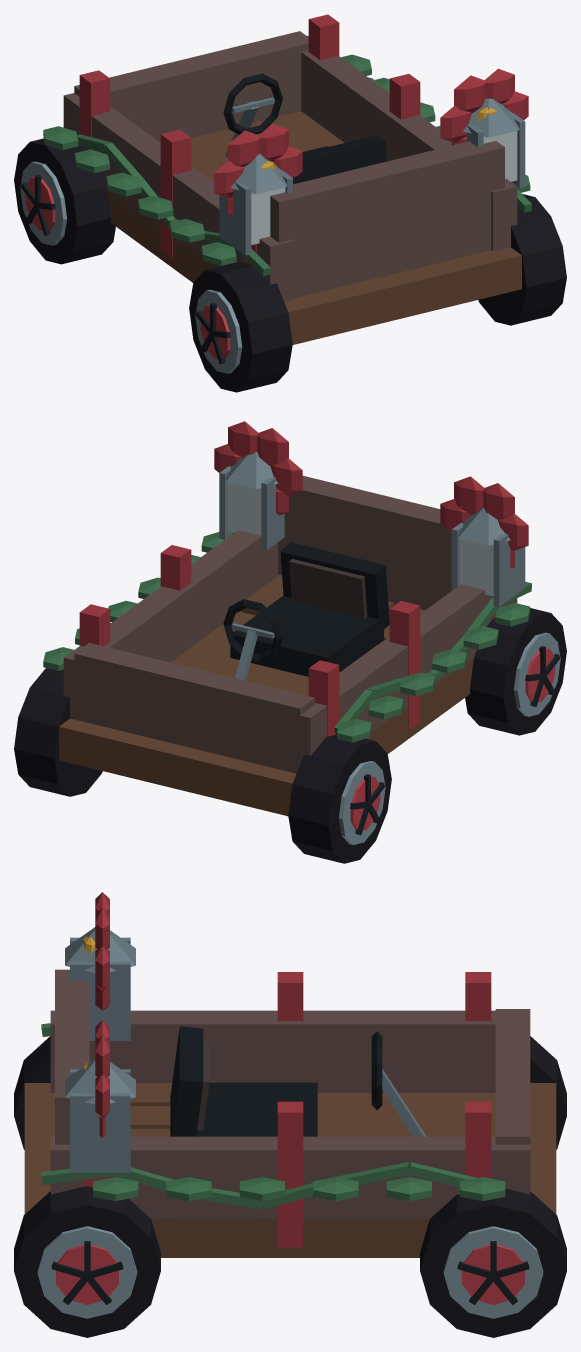
The model's file is kart.glb.
The picture shows the model from 3 angles, top to bottom: view 1: azimuth 30°, elevation 25°; view 2: azimuth 150°, elevation 25°; view 3: azimuth 270°, elevation 25°; orthographic projection. The views are drawn at different scales.
Parts seen in each view (by area): view 1: identity-wagon-wagon-timber-coach, wheel-rear-left, wheel-front-left, identity-wagon-motif-lanterns, identity-wagon-motif-vines, identity-wagon-motif-flowers, wheel-rear-right, identity-wagon-driver-cockpit; view 2: identity-wagon-wagon-timber-coach, identity-wagon-driver-cockpit, wheel-front-left, identity-wagon-motif-lanterns, wheel-rear-left, identity-wagon-motif-vines, identity-wagon-motif-flowers, wheel-front-right; view 3: identity-wagon-wagon-timber-coach, wheel-rear-right, wheel-front-right, identity-wagon-driver-cockpit, identity-wagon-motif-lanterns, identity-wagon-motif-vines, identity-wagon-motif-flowers, wheel-front-left, wheel-rear-left.
Part boxes in pixels (x1,y1,x2,y2): identity-wagon-wagon-timber-coach: [63, 14, 521, 344]; wheel-rear-left: [189, 261, 292, 392]; wheel-front-left: [14, 138, 115, 264]; identity-wagon-motif-lanterns: [219, 98, 525, 255]; identity-wagon-motif-vines: [43, 54, 531, 276]; identity-wagon-motif-flowers: [214, 68, 528, 215]; wheel-rear-right: [478, 194, 566, 325]; identity-wagon-driver-cockpit: [223, 73, 386, 184]; identity-wagon-wagon-timber-coach: [59, 475, 517, 816]; identity-wagon-driver-cockpit: [223, 542, 389, 680]; wheel-front-left: [288, 734, 391, 863]; identity-wagon-motif-lanterns: [219, 452, 525, 606]; wheel-rear-left: [465, 608, 566, 735]; identity-wagon-motif-vines: [43, 532, 531, 742]; identity-wagon-motif-flowers: [214, 421, 528, 568]; wheel-front-right: [14, 668, 102, 796]; identity-wagon-wagon-timber-coach: [24, 969, 556, 1257]; wheel-rear-right: [14, 1186, 160, 1337]; wheel-front-right: [420, 1188, 566, 1337]; identity-wagon-driver-cockpit: [170, 1026, 426, 1136]; identity-wagon-motif-lanterns: [65, 927, 135, 1172]; identity-wagon-motif-vines: [41, 1023, 505, 1209]; identity-wagon-motif-flowers: [83, 892, 109, 1137]; wheel-front-left: [530, 1036, 566, 1149]; wheel-rear-left: [14, 1036, 50, 1149].
Bounding box in the file's own units: 2.07 × 1.46 × 2.56.
